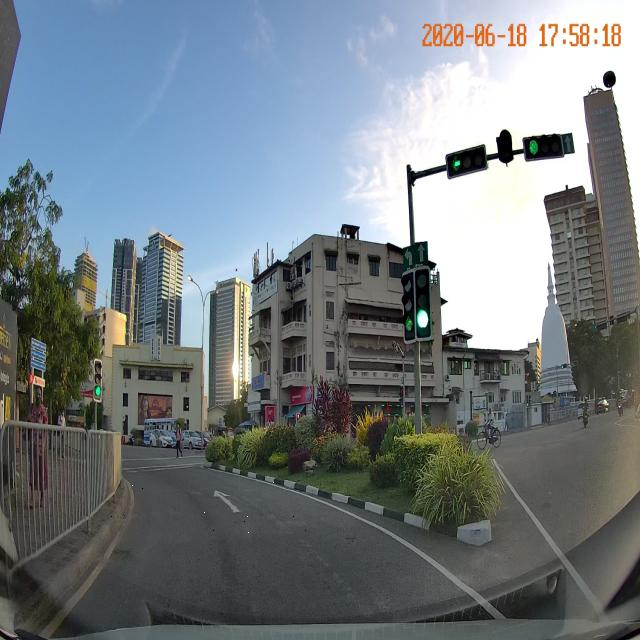forward: (110, 482, 321, 535)
